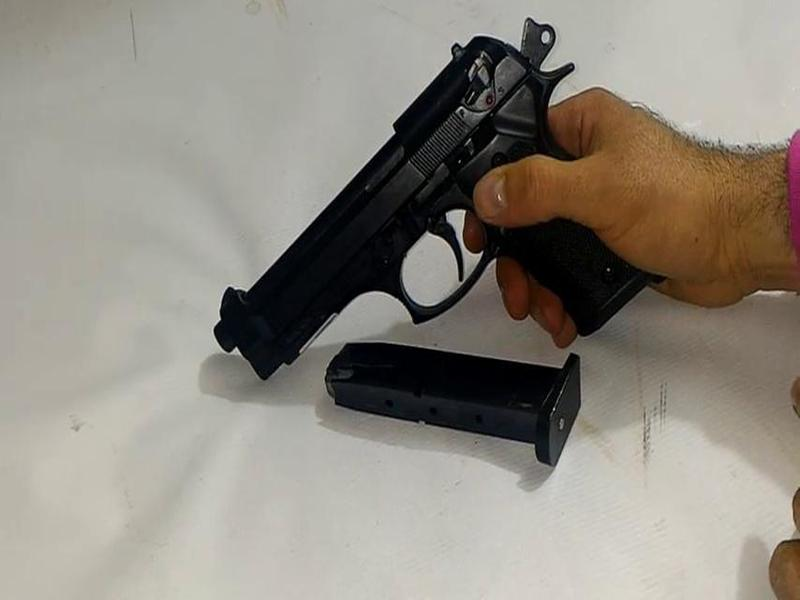Pistola: (183, 8, 679, 374)
